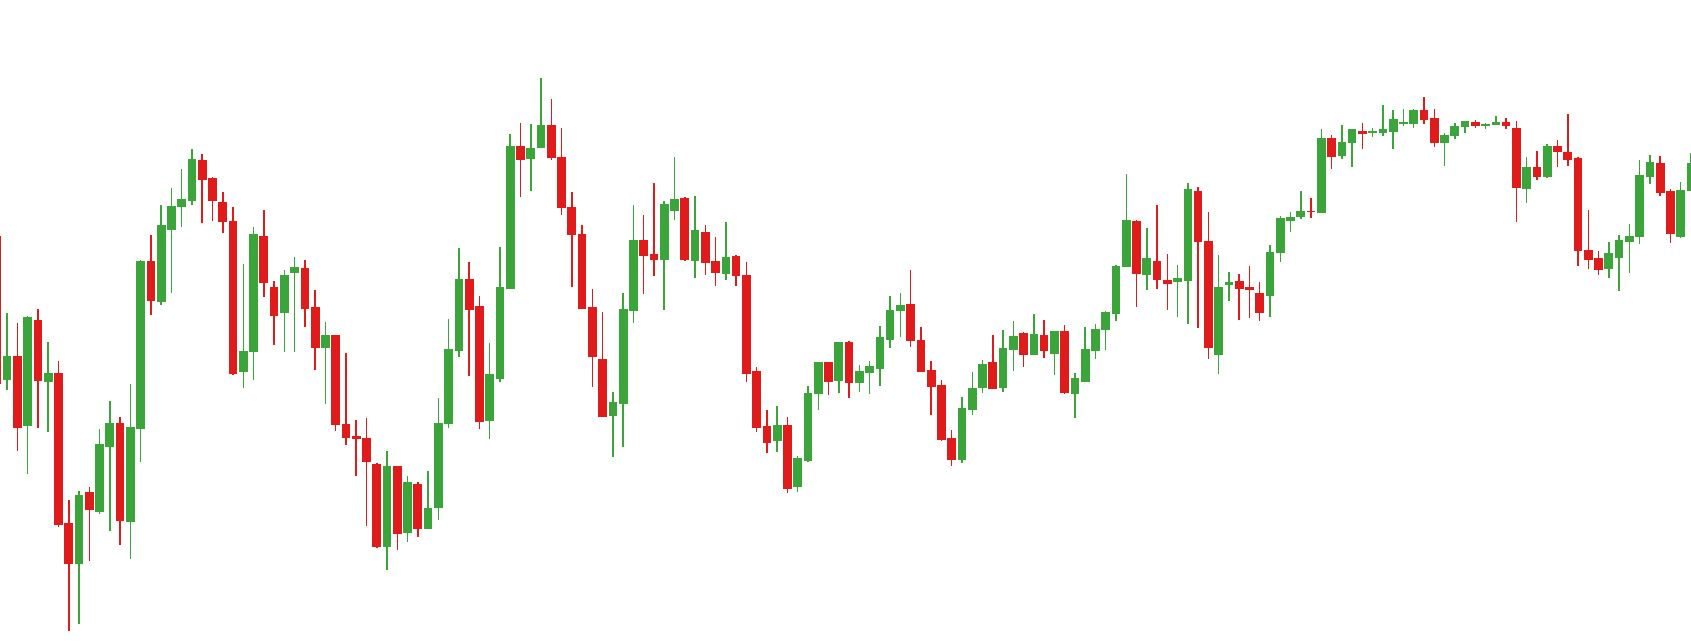buy: (473, 326, 618, 460), (976, 353, 1081, 420)
sell: (185, 123, 526, 320)
